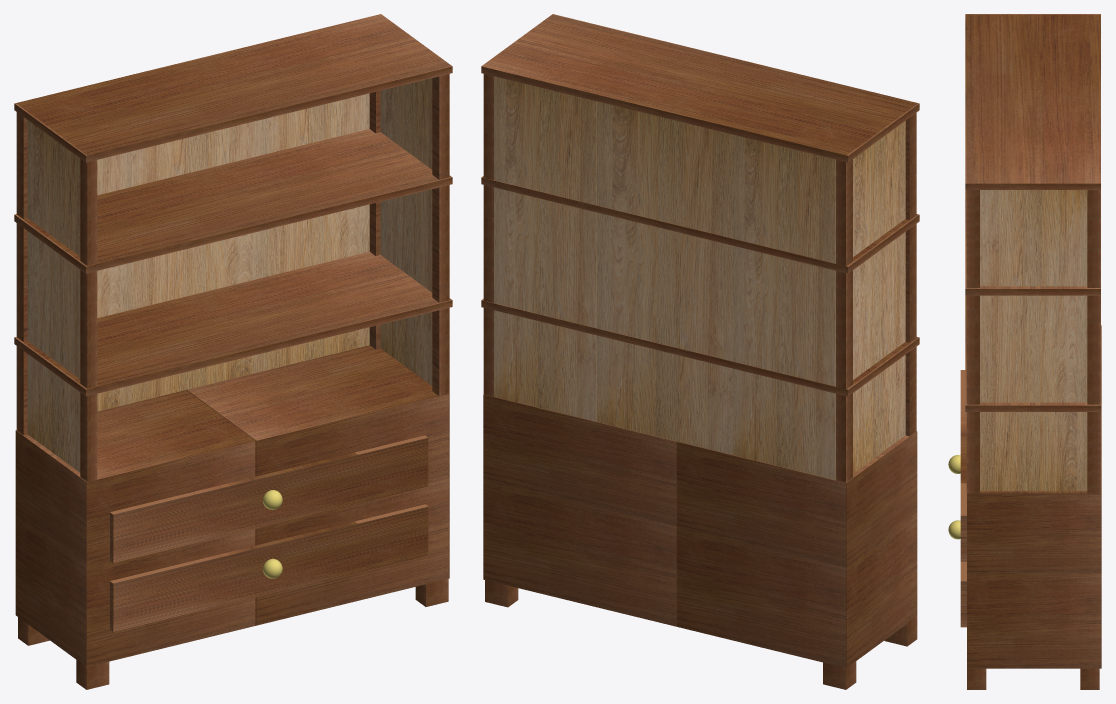
The model's file is MuebleEstante.fbx.
3 views of the same model, side by side, from view 1: azimuth 30°, elevation 25°; view 2: azimuth 150°, elevation 25°; view 3: azimuth 270°, elevation 25° (orthographic). The views are drawn at different scales.
Parts seen in each view (by area): view 1: Cubo.003; view 2: Cubo.003; view 3: Cubo.003.
Part boxes in pixels (x1,y1,x2,y2): Cubo.003: [14, 14, 452, 689]; Cubo.003: [481, 14, 919, 689]; Cubo.003: [948, 14, 1101, 689].
Bounding box in the file's own units: 174 × 243 × 66.29.
Materials: 8 (7 with a texture image).
